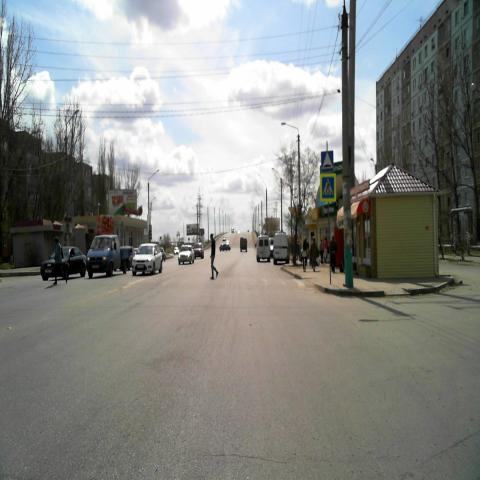5_20: (320, 149, 334, 172)
